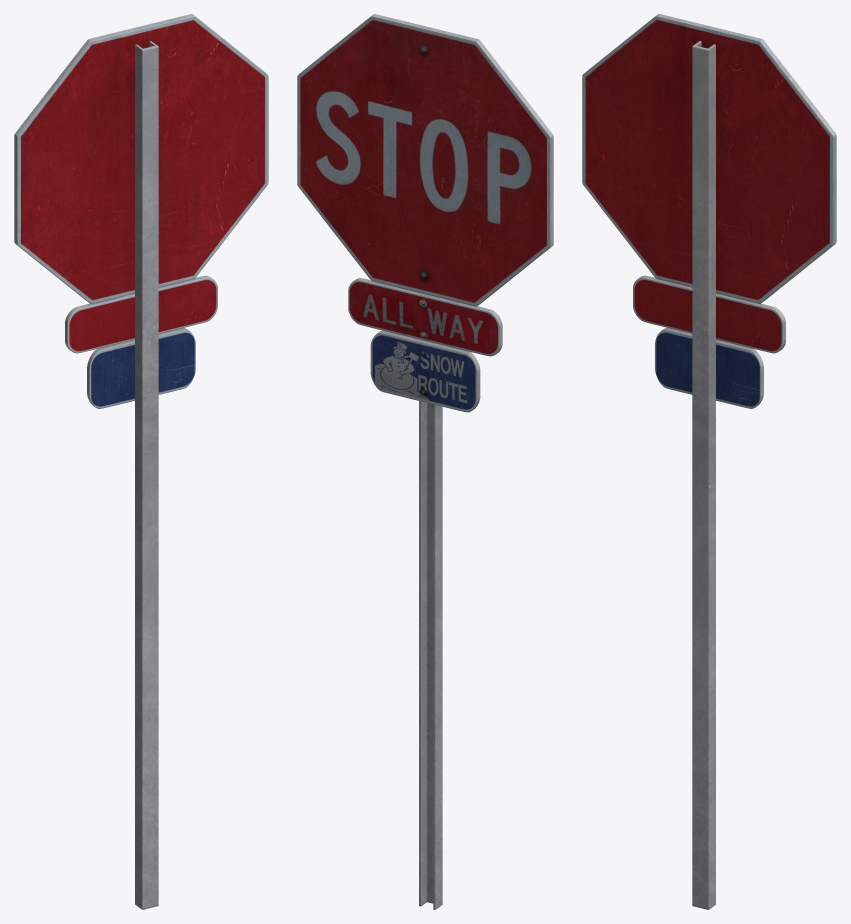
File: stop_sign_l3.glb
3 renders of one model, left to right at view 1: azimuth 30°, elevation 25°; view 2: azimuth 150°, elevation 25°; view 3: azimuth 330°, elevation 25°, orthographic.
Visible parts, largest first — view 1: 10568StopSign_v1-L3; view 2: 10568StopSign_v1-L3; view 3: 10568StopSign_v1-L3.
Part boxes in pixels (x1,y1,x2,y2): 10568StopSign_v1-L3: [14, 14, 268, 909]; 10568StopSign_v1-L3: [297, 14, 553, 909]; 10568StopSign_v1-L3: [582, 14, 836, 909].
Size of the model in its own units: 0.7227 by 2.4 by 0.053.
Materials: 1 (1 with a texture image).
